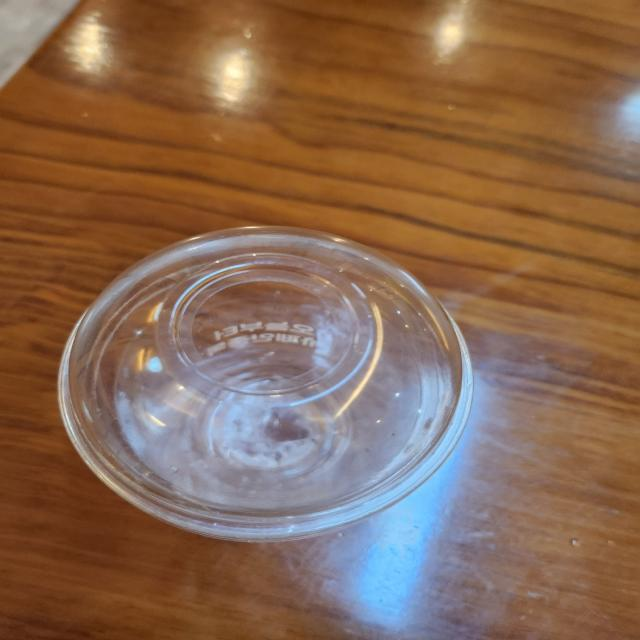plastic_cup_lid: (58, 221, 486, 541)
